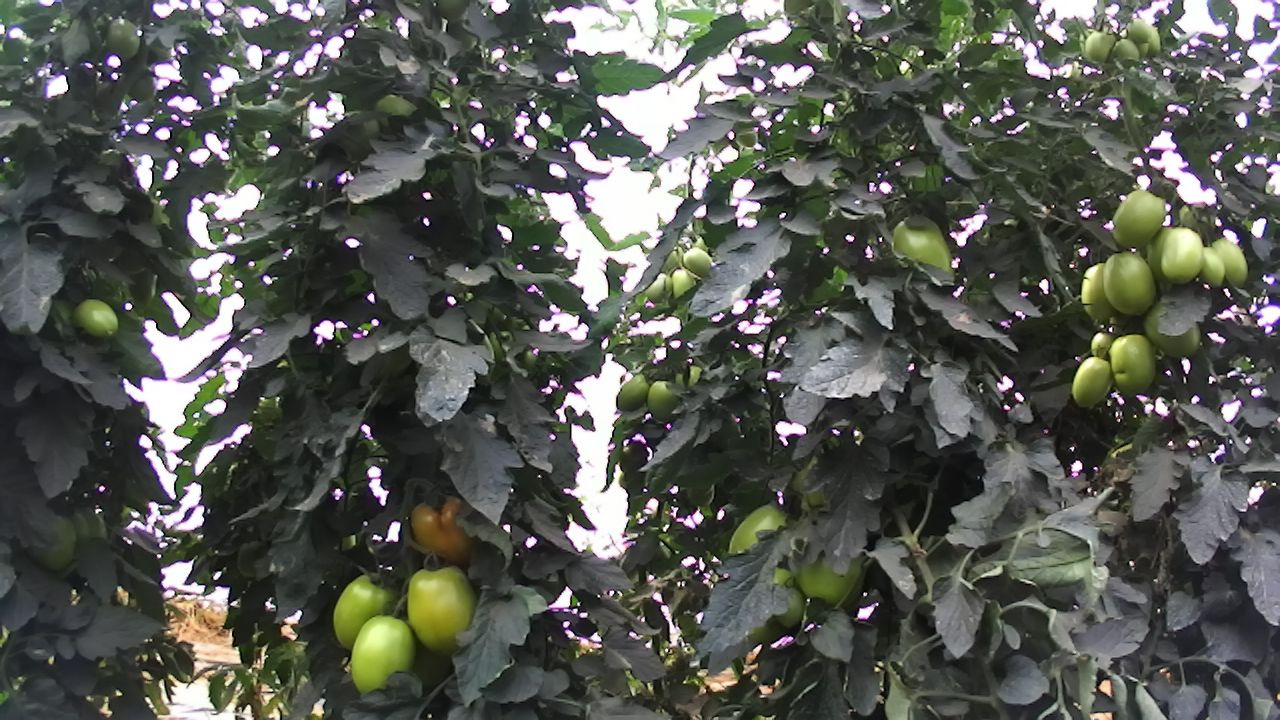tomato: (405, 560, 483, 662), (330, 566, 405, 657), (349, 611, 421, 700), (406, 489, 481, 569), (888, 211, 956, 288), (1102, 249, 1161, 320), (1108, 187, 1167, 250), (1102, 331, 1159, 396), (1157, 222, 1206, 287), (1078, 259, 1122, 324), (1068, 357, 1118, 411), (71, 296, 122, 340), (1211, 235, 1252, 289), (103, 13, 144, 62), (642, 375, 682, 424), (1195, 241, 1230, 296), (613, 371, 654, 416), (1080, 27, 1117, 64), (681, 244, 717, 278), (644, 267, 674, 304), (1124, 11, 1153, 46), (667, 266, 695, 300)
